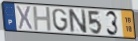3: (104, 11, 121, 38)
5: (87, 10, 104, 36)
G: (51, 8, 69, 33)
H: (32, 7, 54, 33)
N: (67, 8, 88, 34)
X: (15, 5, 34, 31)
